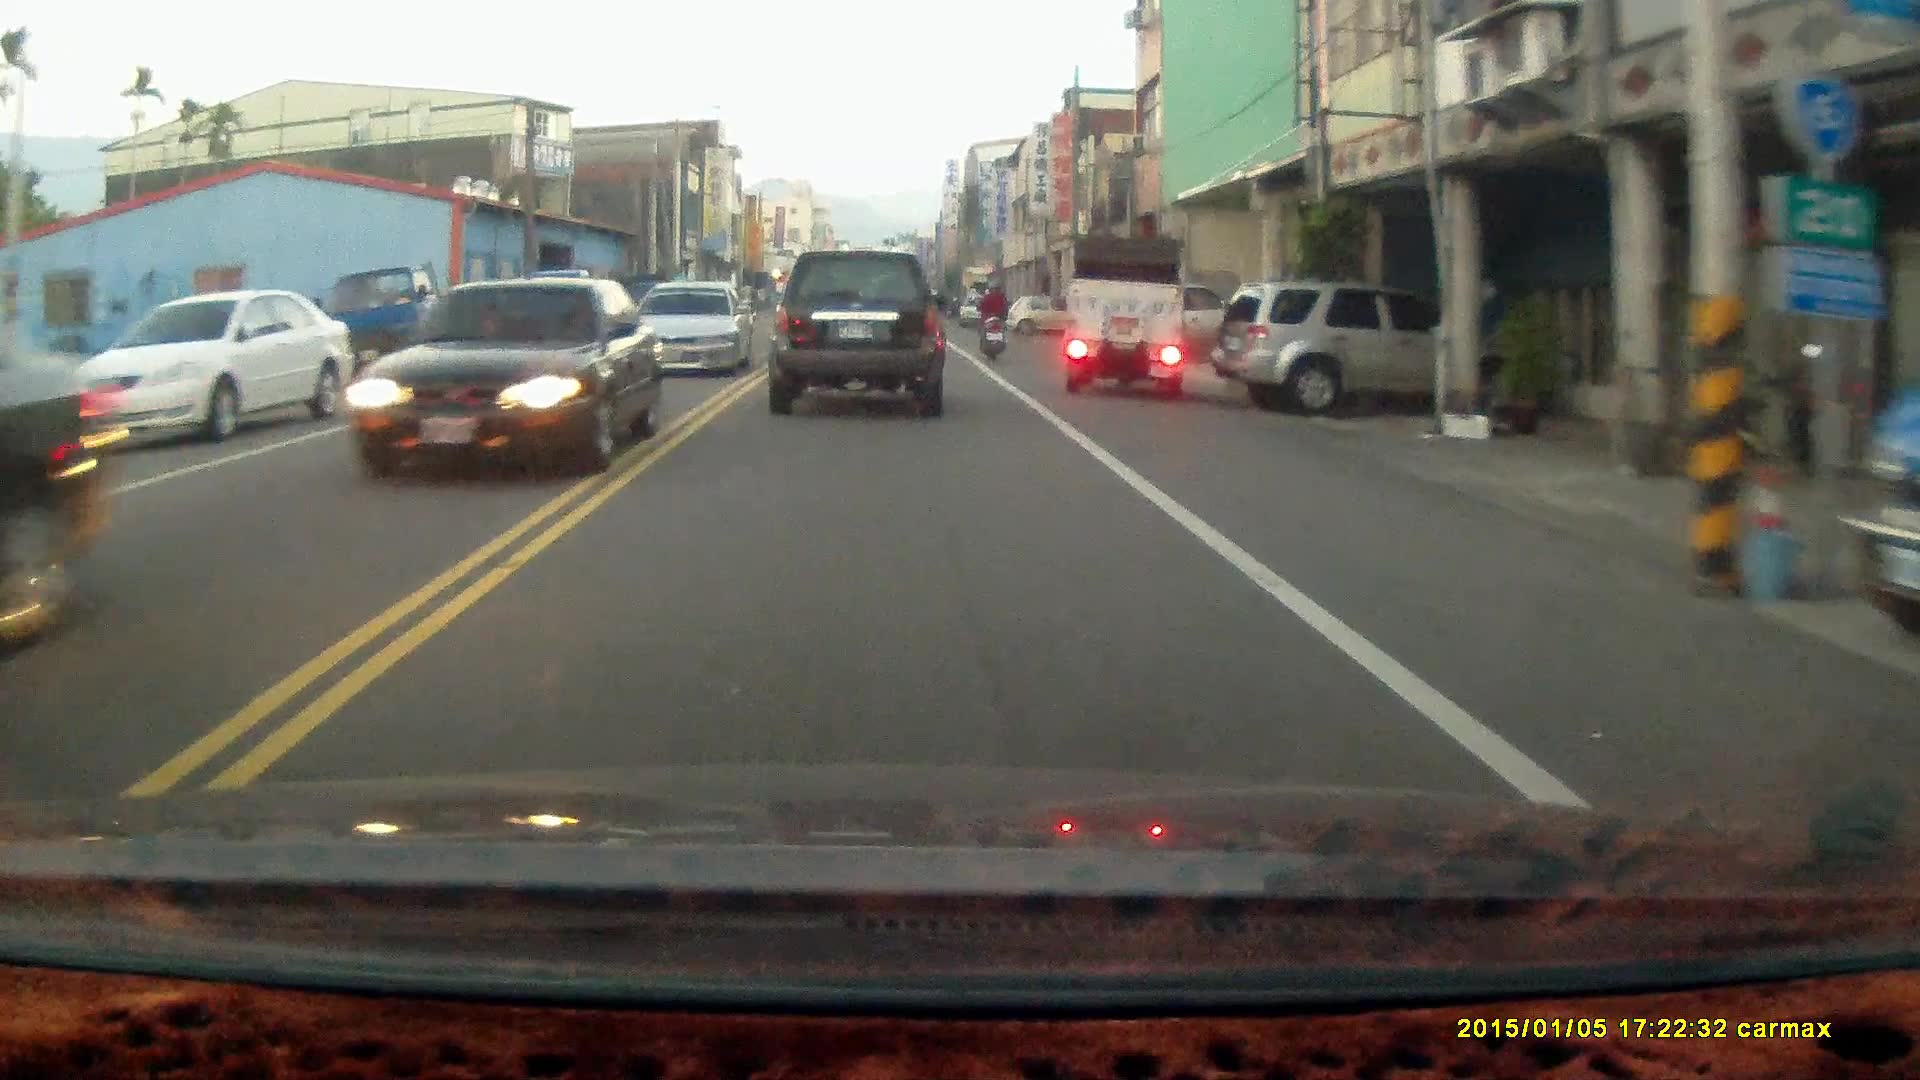rider: (973, 275, 1011, 362)
vehicle: (347, 281, 657, 486), (58, 288, 354, 447), (1, 277, 119, 652), (1227, 282, 1461, 422), (766, 259, 948, 427), (1062, 238, 1189, 398), (632, 285, 753, 383)
